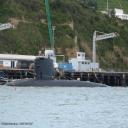submarine: (4, 59, 111, 87)
